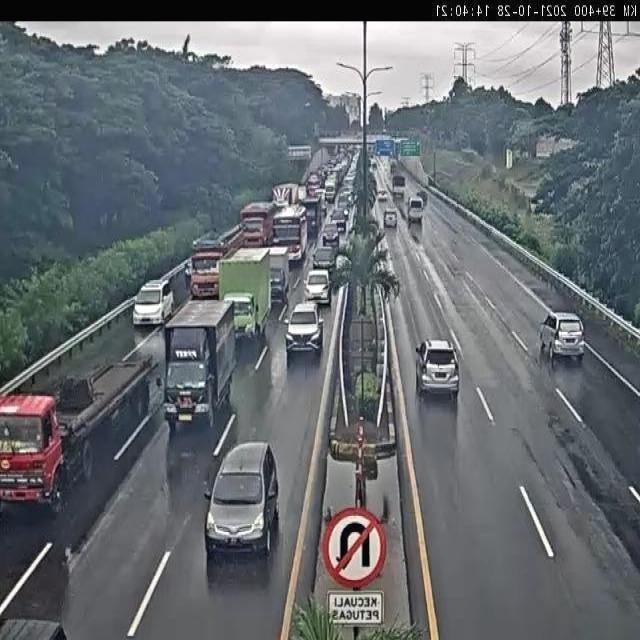Car: (186, 422, 300, 571), (539, 311, 585, 365)
Truck: (2, 354, 158, 520), (163, 300, 238, 433), (320, 443, 396, 550), (220, 247, 274, 348), (415, 338, 461, 399), (190, 239, 231, 300), (284, 299, 324, 361), (272, 204, 309, 266), (334, 273, 354, 381), (133, 278, 175, 327), (0, 616, 70, 640), (240, 203, 276, 249), (169, 258, 194, 313), (219, 221, 251, 258), (297, 193, 322, 240), (303, 268, 332, 306), (370, 252, 392, 298), (326, 153, 349, 192), (529, 282, 560, 307), (272, 182, 299, 208), (334, 253, 352, 291), (313, 245, 336, 274), (374, 152, 391, 185), (372, 437, 396, 460), (335, 190, 353, 220), (192, 235, 222, 251), (407, 195, 424, 223), (361, 453, 378, 481), (330, 208, 348, 234), (287, 145, 312, 163), (323, 173, 338, 202), (534, 190, 555, 210), (321, 224, 340, 246), (555, 138, 577, 156), (542, 346, 555, 376), (317, 136, 347, 148), (392, 173, 406, 198), (345, 150, 357, 178), (367, 214, 380, 239), (383, 208, 398, 228), (328, 158, 341, 178), (345, 144, 359, 161), (317, 166, 329, 185), (184, 259, 192, 286), (461, 147, 479, 159), (529, 198, 542, 214), (314, 187, 326, 204), (408, 138, 420, 154), (374, 228, 385, 245), (369, 159, 378, 179), (393, 138, 403, 156), (367, 135, 382, 147), (369, 174, 378, 194), (411, 224, 420, 241), (312, 120, 320, 139), (377, 189, 388, 202), (329, 146, 339, 160), (426, 174, 436, 188), (397, 198, 404, 217), (506, 148, 512, 170), (449, 225, 460, 236), (379, 149, 391, 159), (537, 151, 552, 159), (390, 156, 398, 170), (418, 192, 426, 206), (367, 145, 375, 158), (423, 194, 429, 210), (319, 316, 325, 331), (384, 206, 394, 214), (406, 209, 412, 222), (422, 126, 429, 136), (382, 128, 388, 135), (452, 238, 457, 246)
